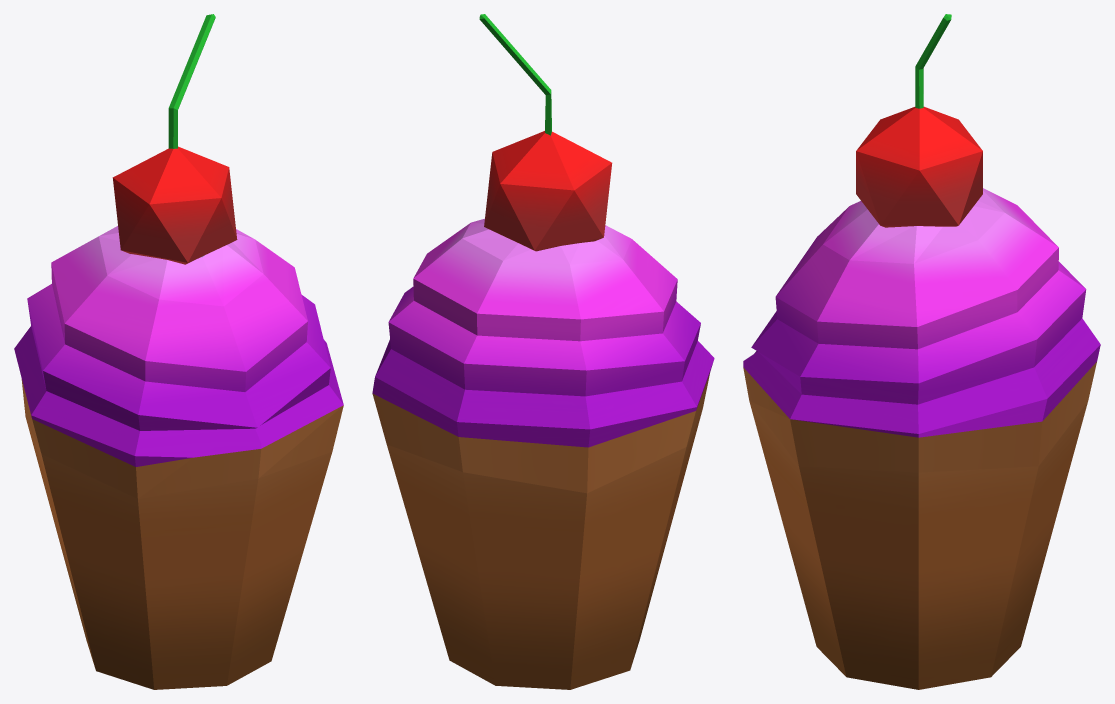
File: CupcakeCherry.glb
The picture shows the model from 3 angles, left to right: view 1: azimuth 30°, elevation 25°; view 2: azimuth 150°, elevation 25°; view 3: azimuth 270°, elevation 25°; orthographic projection. The views are drawn at different scales.
Parts seen in each view (by area): view 1: Cupcake; view 2: Cupcake; view 3: Cupcake.
Part boxes in pixels (left/top/right/bottom): Cupcake: left=14, top=14, right=343, bottom=689; Cupcake: left=372, top=14, right=714, bottom=689; Cupcake: left=743, top=14, right=1100, bottom=689.
Bounding box in the file's own units: 0.6356 × 1.26 × 0.6243.
1 material, 1 textured.
